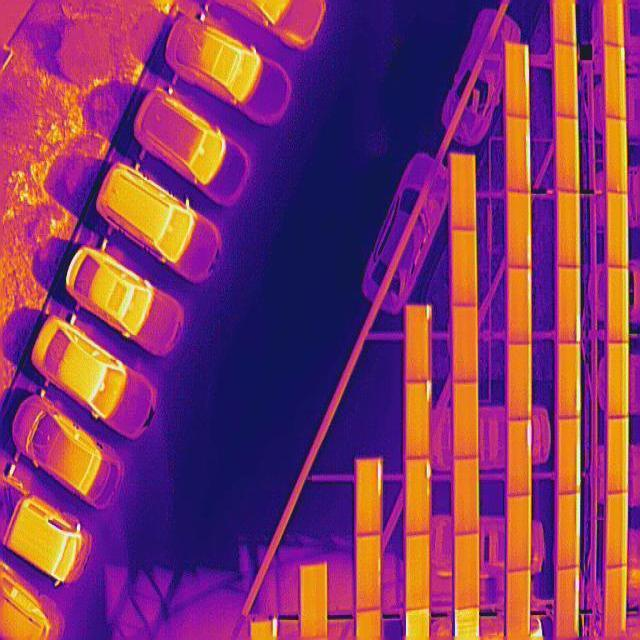No-Anomaly: (300, 566, 329, 640), (450, 229, 478, 305), (506, 190, 532, 269), (450, 155, 477, 231), (452, 306, 479, 382), (355, 535, 382, 610), (507, 268, 533, 344), (454, 380, 478, 459), (455, 458, 479, 534), (558, 190, 581, 269), (557, 114, 580, 192), (508, 344, 532, 418), (455, 535, 479, 606), (407, 534, 430, 608), (556, 44, 579, 118), (507, 496, 529, 570), (507, 570, 530, 640), (607, 118, 628, 194), (608, 192, 629, 268), (608, 342, 629, 418), (605, 565, 628, 634), (608, 418, 629, 492), (608, 492, 629, 566), (609, 268, 629, 342)
Unclassified: (404, 306, 432, 382), (355, 458, 382, 534), (405, 458, 432, 534), (505, 118, 531, 194), (405, 382, 431, 458), (505, 44, 530, 120), (557, 418, 581, 494), (558, 266, 581, 344), (558, 344, 582, 418), (508, 418, 531, 494), (558, 492, 581, 568), (557, 568, 580, 638), (605, 44, 626, 120)
